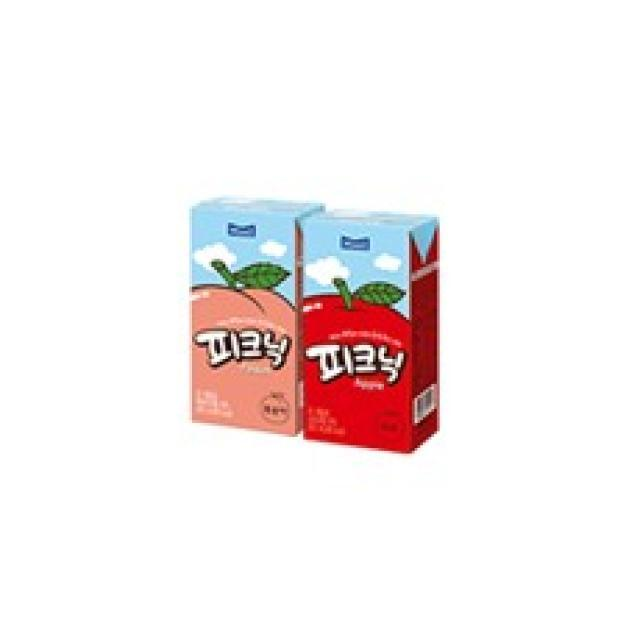Tetra: (162, 183, 319, 447), (304, 187, 446, 462)
